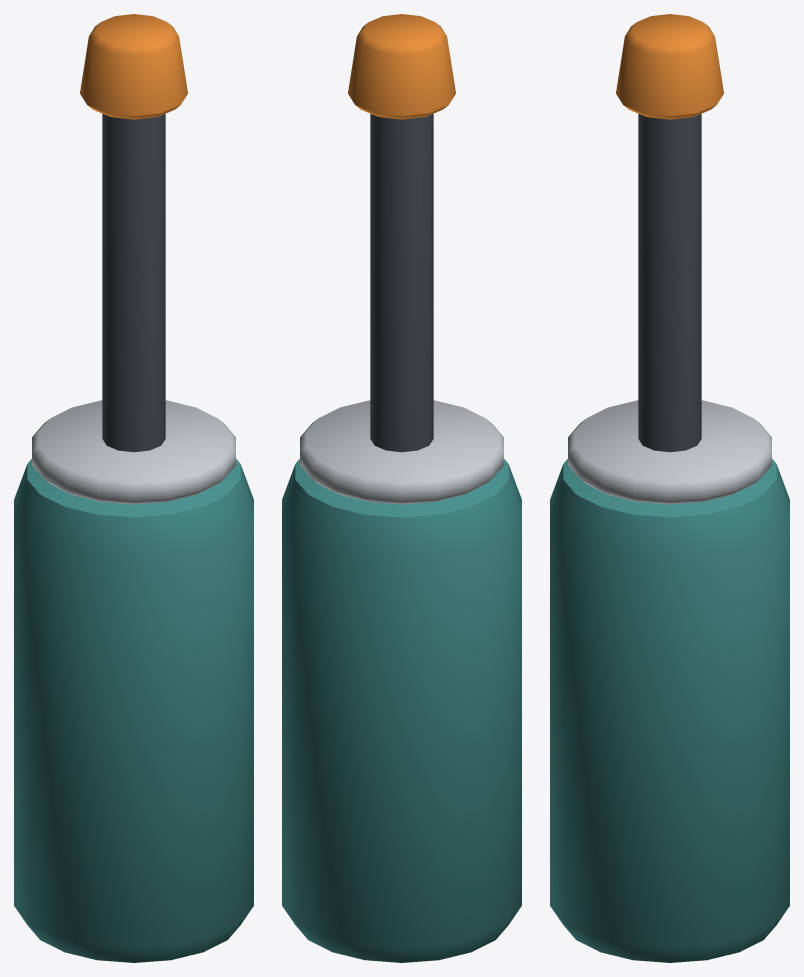
Rendered from ToiletBrush_01.glb.
The picture shows the model from 3 angles, left to right: view 1: azimuth 30°, elevation 25°; view 2: azimuth 150°, elevation 25°; view 3: azimuth 270°, elevation 25°; orthographic projection.
Visible parts, largest first — view 1: SM_ToiletBrush_01; view 2: SM_ToiletBrush_01; view 3: SM_ToiletBrush_01.
Boxes of the visible parts, x1,y1,x2,y2 form: SM_ToiletBrush_01: (14, 14, 253, 962); SM_ToiletBrush_01: (282, 14, 521, 962); SM_ToiletBrush_01: (550, 14, 789, 962).
Bounding box in the file's own units: 0.108 × 0.434 × 0.1064.
Materials: 1 (1 with a texture image).
